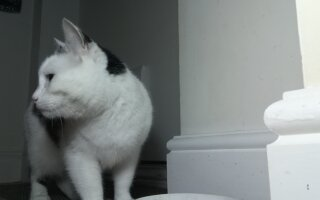bad: (23, 18, 158, 199)
